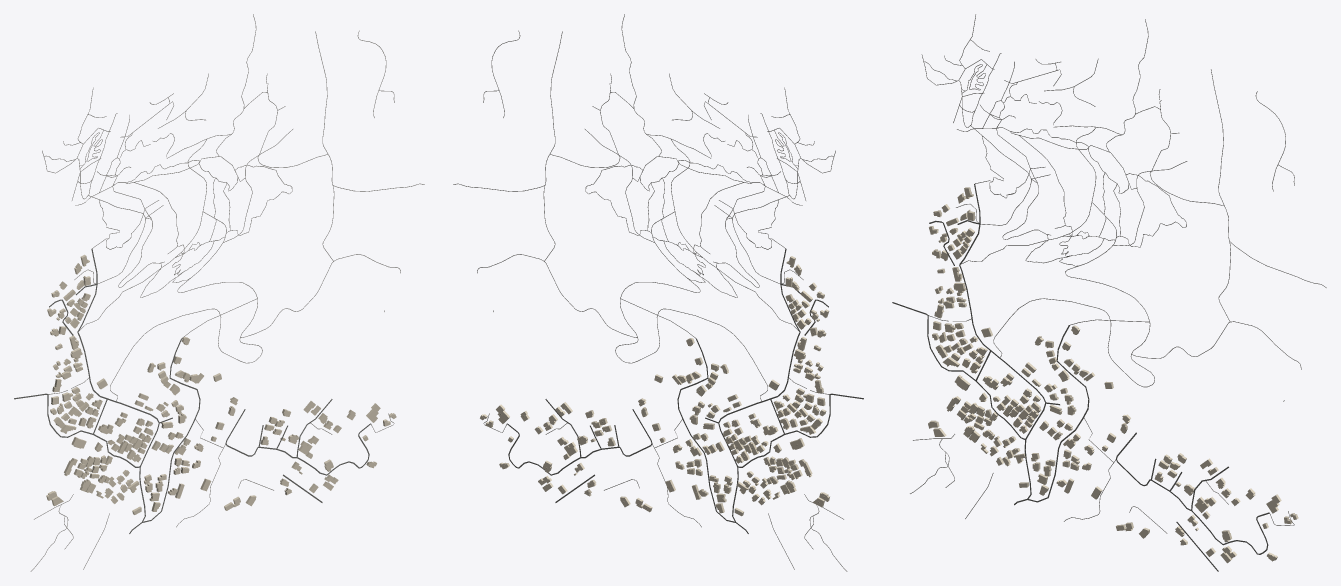
File: historic-palestine-09_33_3505_3273.glb
3 views of the same model, side by side, from view 1: azimuth 30°, elevation 25°; view 2: azimuth 150°, elevation 25°; view 3: azimuth 330°, elevation 25° (orthographic). The views are drawn at different scales.
Visible parts, largest first — view 1: Road .018; view 2: Road .018; view 3: Road .018.
Boxes of the visible parts, bbox=[...] form: Road .018: bbox=[110, 211, 262, 400]; Road .018: bbox=[615, 211, 767, 400]; Road .018: bbox=[993, 202, 1154, 387].
Size of the model in its own units: 1122 by 1343 by 8.7.
